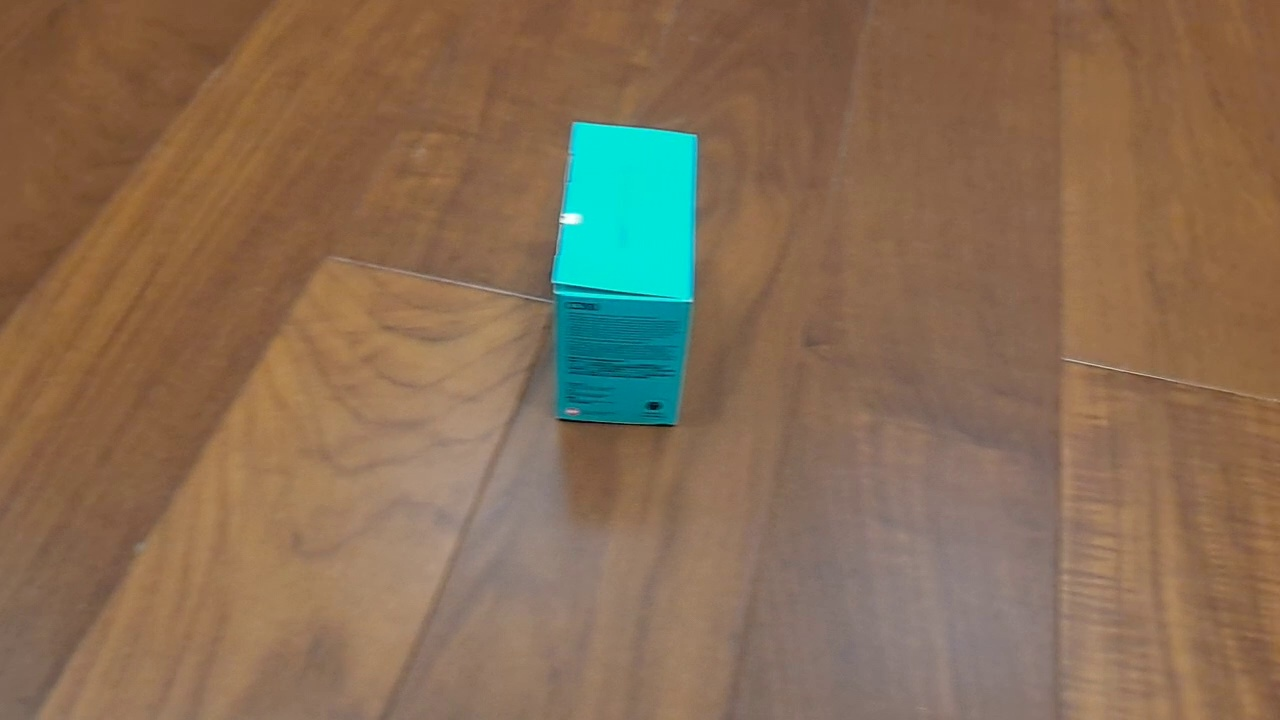webcam: (548, 119, 701, 429)
